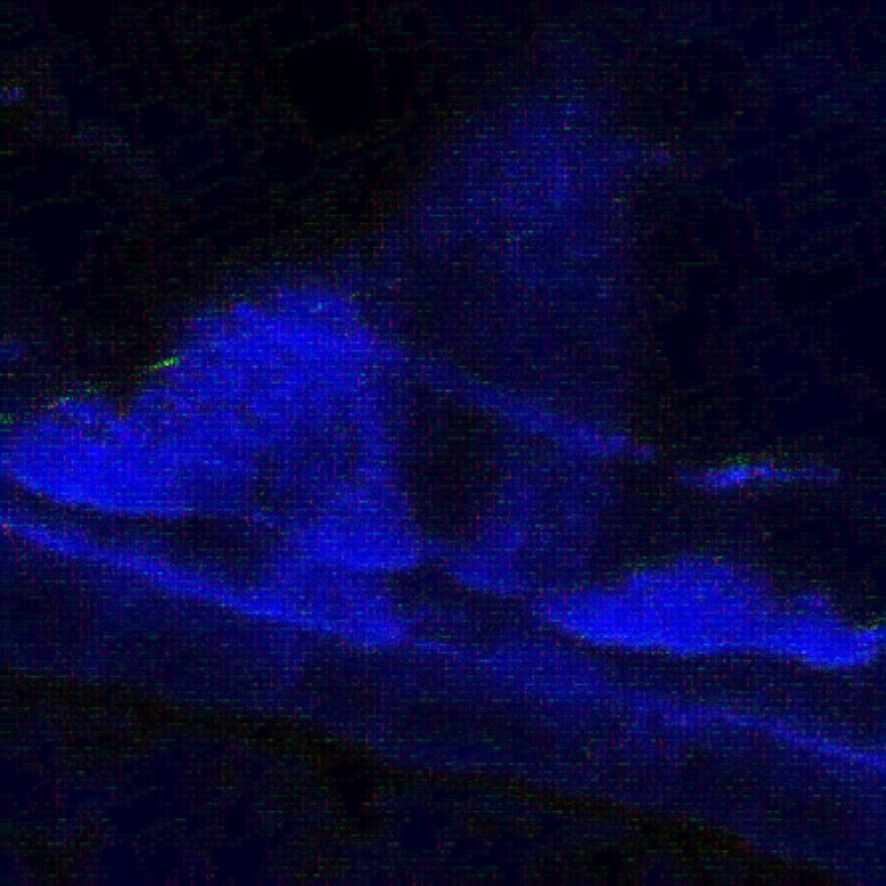rip_current: (360, 51, 677, 607)
